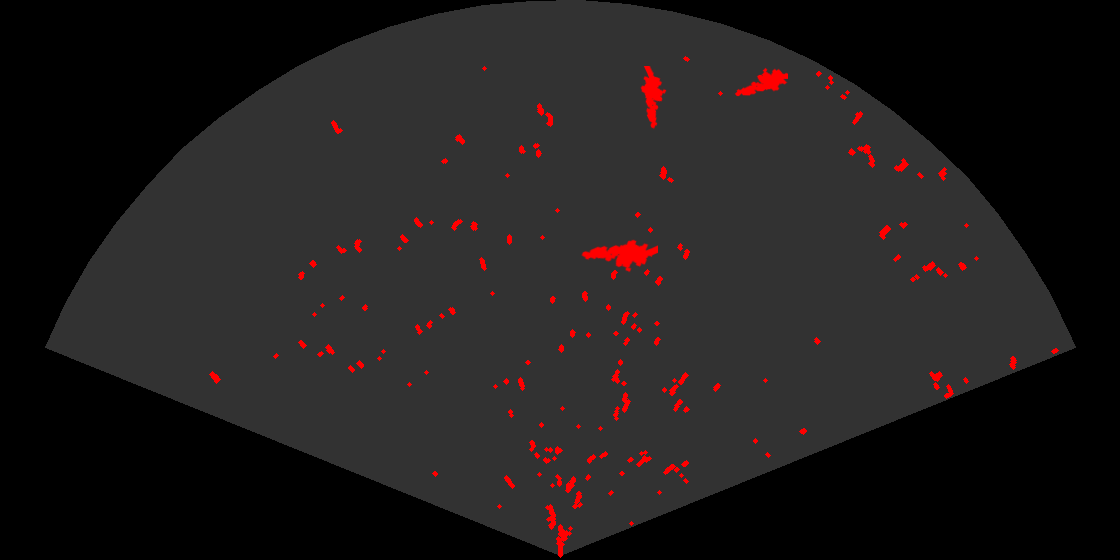frogman: (580, 238, 658, 274), (639, 66, 668, 130), (733, 66, 788, 98)
